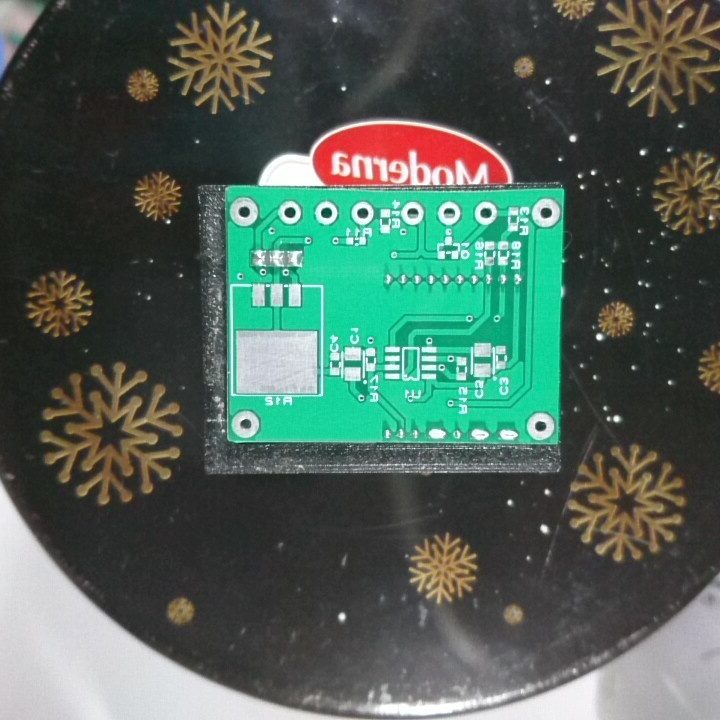F: (228, 194, 260, 229), (530, 197, 564, 229), (229, 409, 262, 441), (525, 409, 556, 441), (348, 198, 378, 227), (311, 199, 341, 227), (276, 197, 303, 226), (435, 200, 464, 226), (398, 200, 426, 226), (472, 200, 497, 228)
P: (425, 424, 448, 443), (469, 426, 492, 443), (497, 426, 520, 442)
